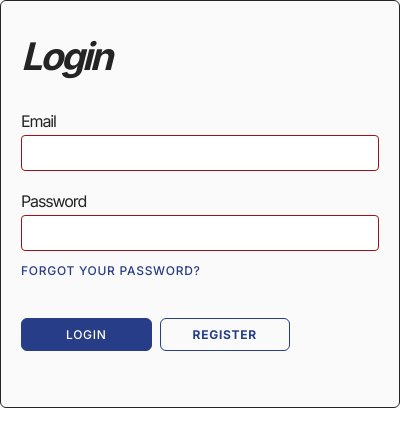
LoginForm › Login Functionality › displays error message on failed login
The image size is (417, 440).
In the field with test id "email-input": (200, 153) top-left (21, 135), bottom-right (379, 171), type "test@example.com"
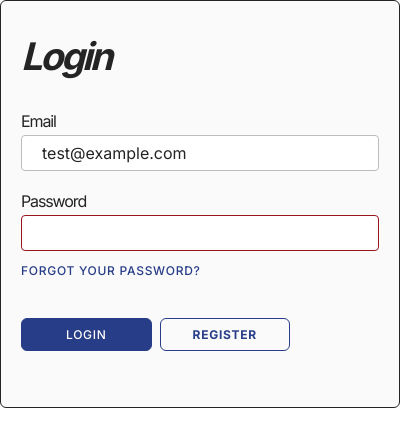
In the password field with test id "password-input": (200, 233) top-left (21, 215), bottom-right (379, 251), type "password"
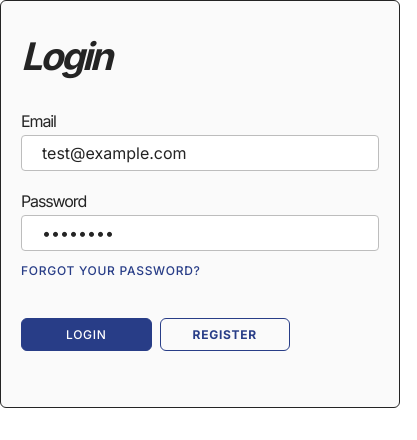
Click the button with test id "login-button": (86, 334) top-left (21, 318), bottom-right (152, 351)
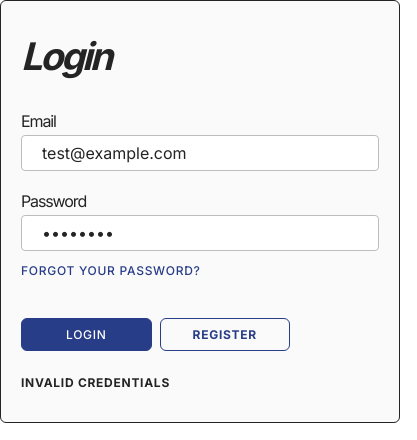
Expected: the heading "Invalid credentials" is shown, top-left (21, 375), bottom-right (170, 390)
